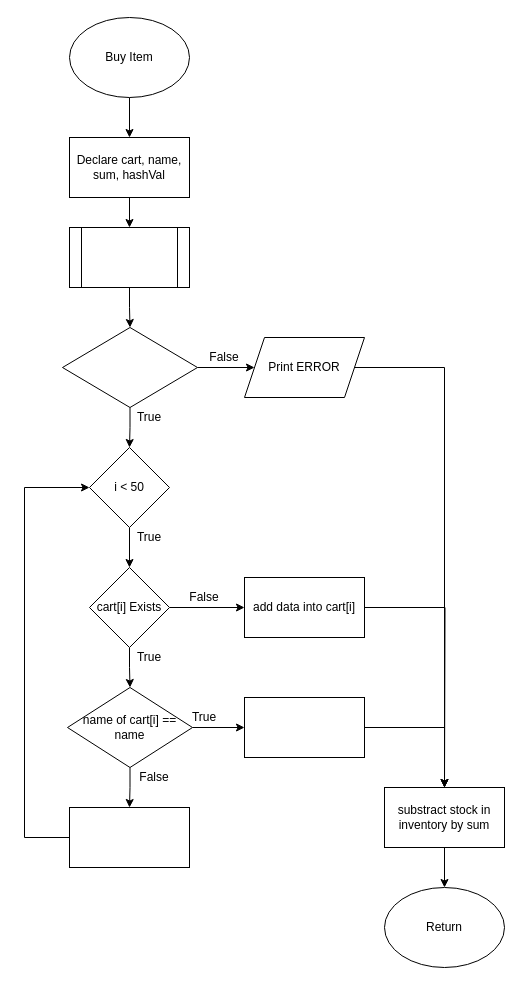
The diagram is 522 pixels wide and 985 high, and some of its shapes have lost their labels. Each missing label, with the box of its shape:
Add stock of cart[i] by sum: (244, 696, 364, 758)
hashVal = generateHash: (68, 226, 190, 288)
i ++: (68, 806, 190, 868)
Inventory[hashVal] Exists: (62, 326, 198, 408)
